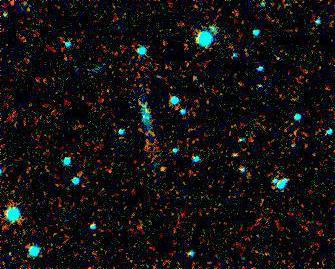star: (147, 153, 177, 183)
